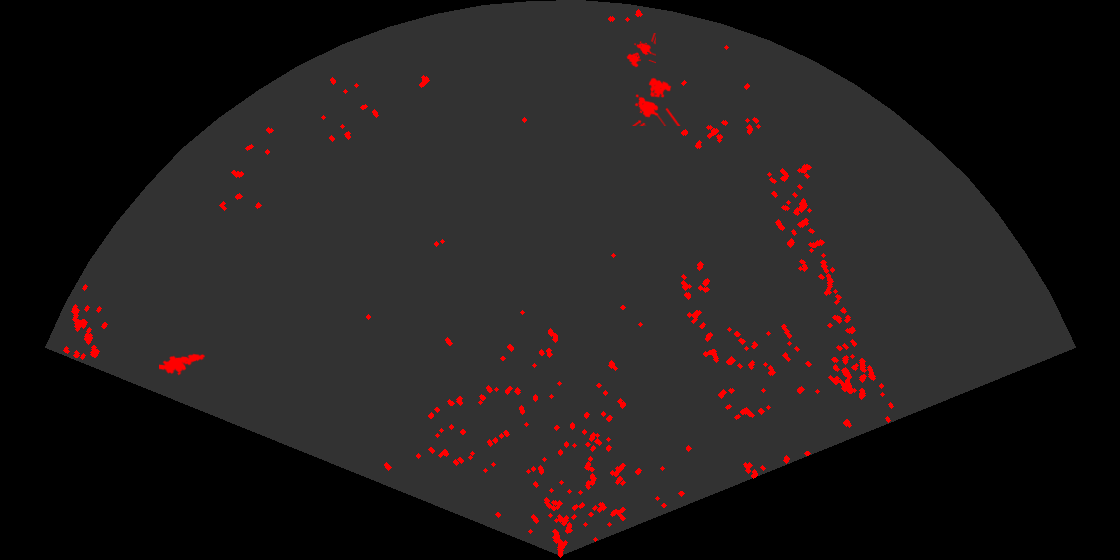cage: (630, 76, 682, 126), (625, 33, 656, 69)
frogman: (159, 352, 205, 377)
